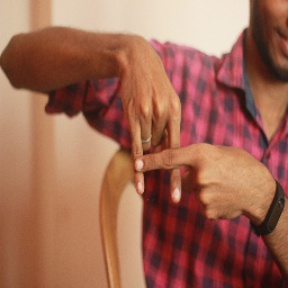H: (114, 96, 218, 209)
